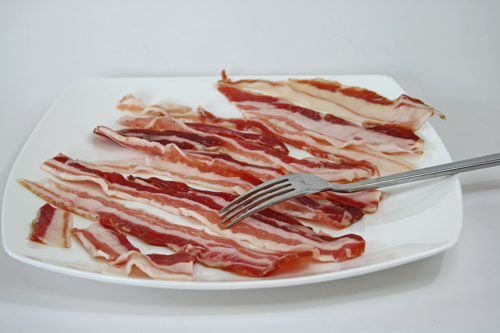bacon: (43, 54, 378, 290)
